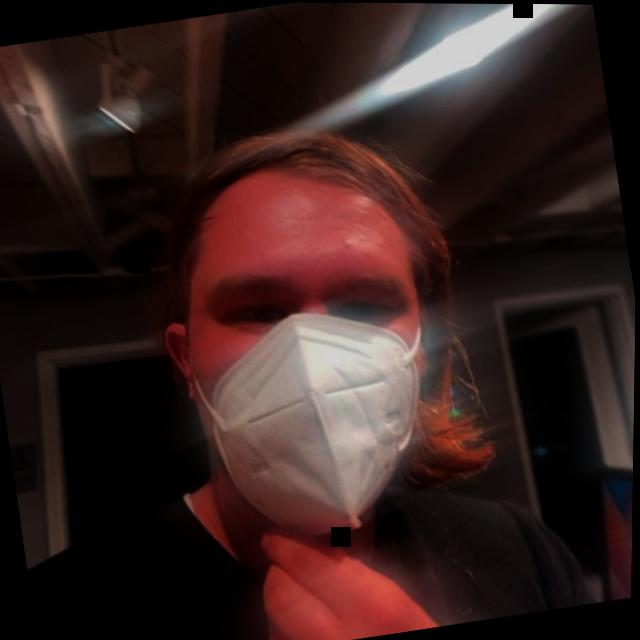Mask: (118, 89, 521, 552)
